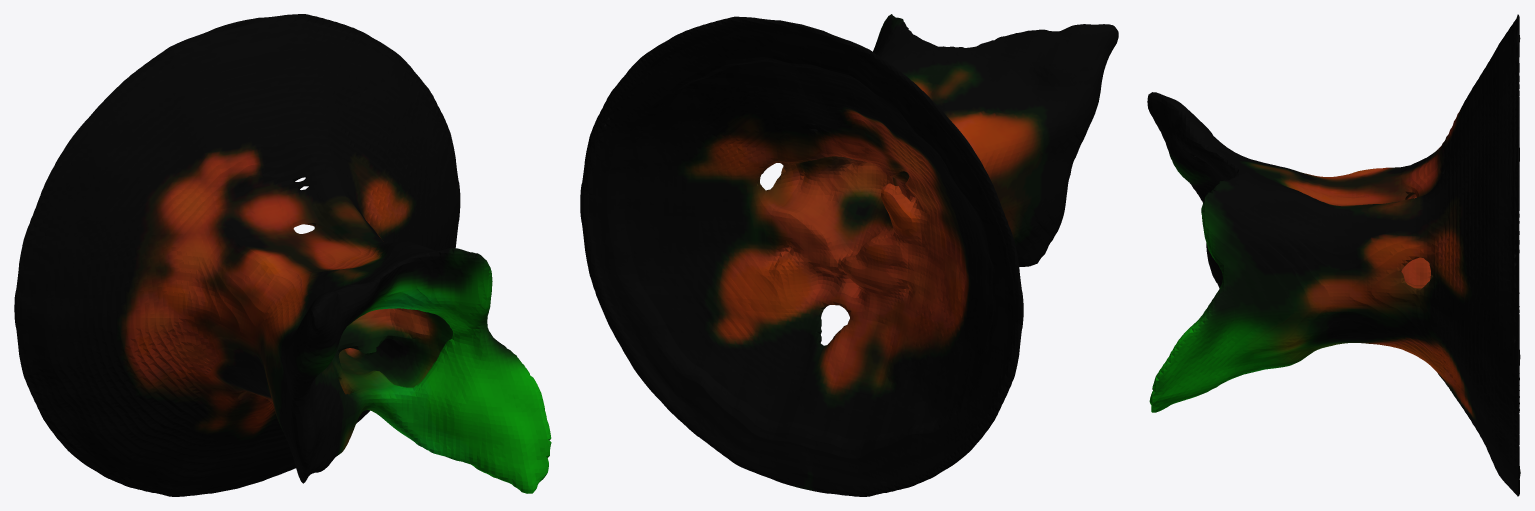
File: vulcano_813031.glb
3 views of the same model, side by side, from view 1: azimuth 30°, elevation 25°; view 2: azimuth 150°, elevation 25°; view 3: azimuth 270°, elevation 25° (orthographic). The views are drawn at different scales.
Parts seen in each view (by area): view 1: world; view 2: world; view 3: world.
Part boxes in pixels (left/top/right/bottom): world: left=14, top=14, right=551, bottom=496; world: left=580, top=14, right=1118, bottom=496; world: left=1147, top=14, right=1520, bottom=496.
Bounding box in the file's own units: 1.98 × 1.98 × 1.53.
